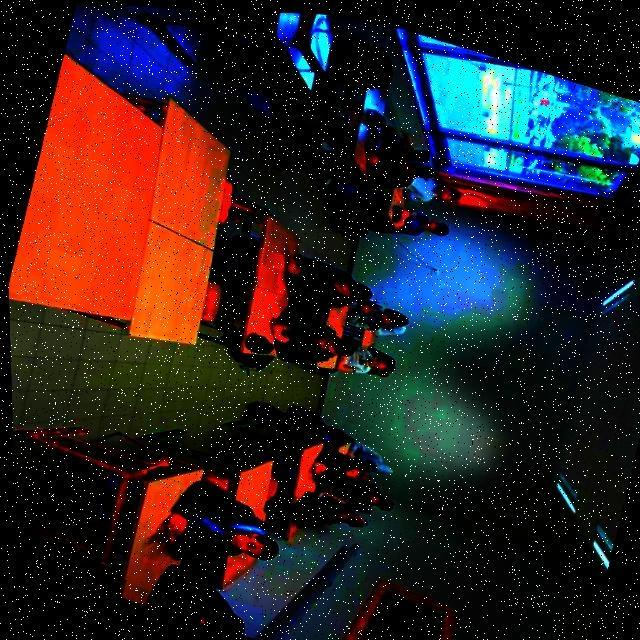phone_use: (152, 461, 276, 585), (279, 253, 371, 323), (354, 110, 427, 187), (325, 282, 407, 346), (272, 305, 347, 367), (387, 188, 447, 233), (337, 437, 390, 475), (344, 475, 392, 511), (293, 442, 322, 500)
